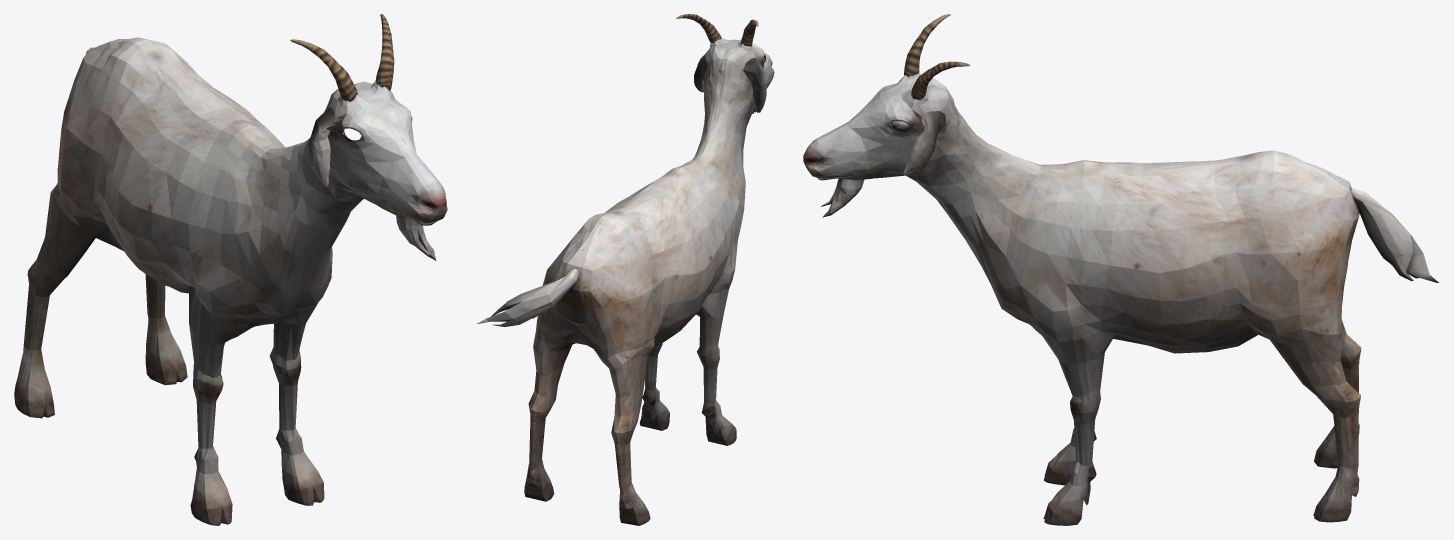
File: Cabra.glb
3 views of the same model, side by side, from view 1: azimuth 30°, elevation 25°; view 2: azimuth 150°, elevation 25°; view 3: azimuth 270°, elevation 25° (orthographic). The views are drawn at different scales.
Visible parts, largest first — view 1: defaultobject; view 2: defaultobject; view 3: defaultobject.
Part boxes in pixels (x1,y1,x2,y2): defaultobject: (14,14,447,525); defaultobject: (477,14,774,525); defaultobject: (803,14,1438,525).
Size of the model in its own units: 17.77 by 50.52 by 61.54.
Materials: 1 (1 with a texture image).
